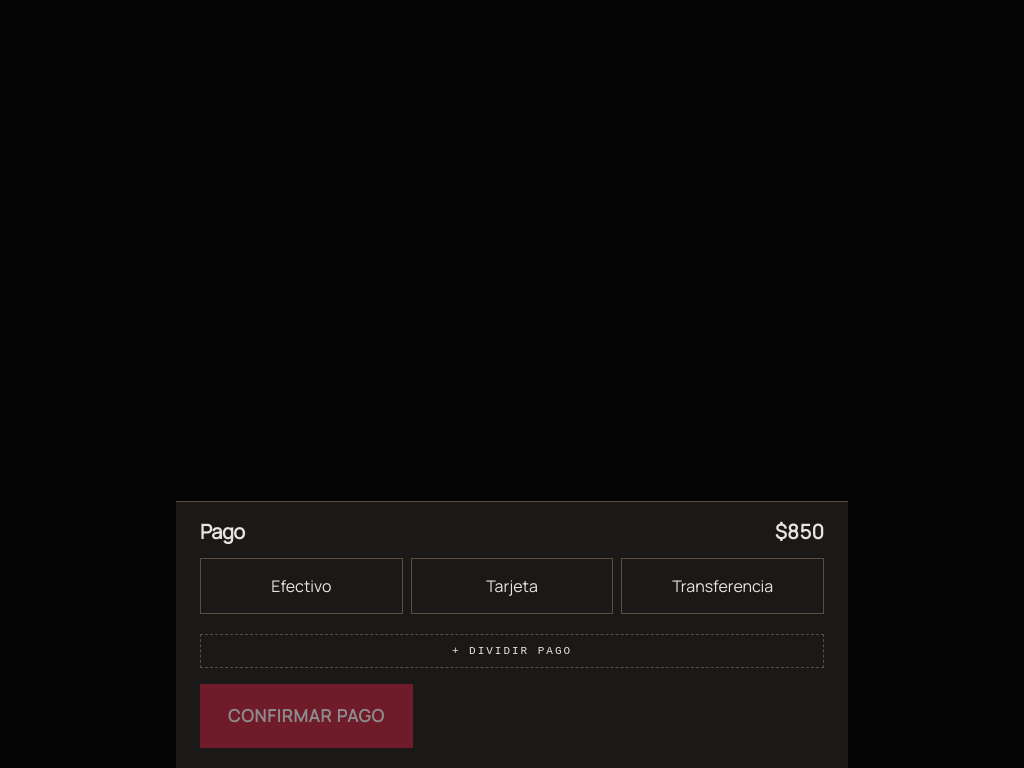
Test: PaymentSheet — split mode › reveals split UI when "Dividir pago" button is tapped
This screenshot has width=1024, height=768.
Click the button "+ Dividir pago".
click(512, 651)  # box [200, 634, 824, 668]
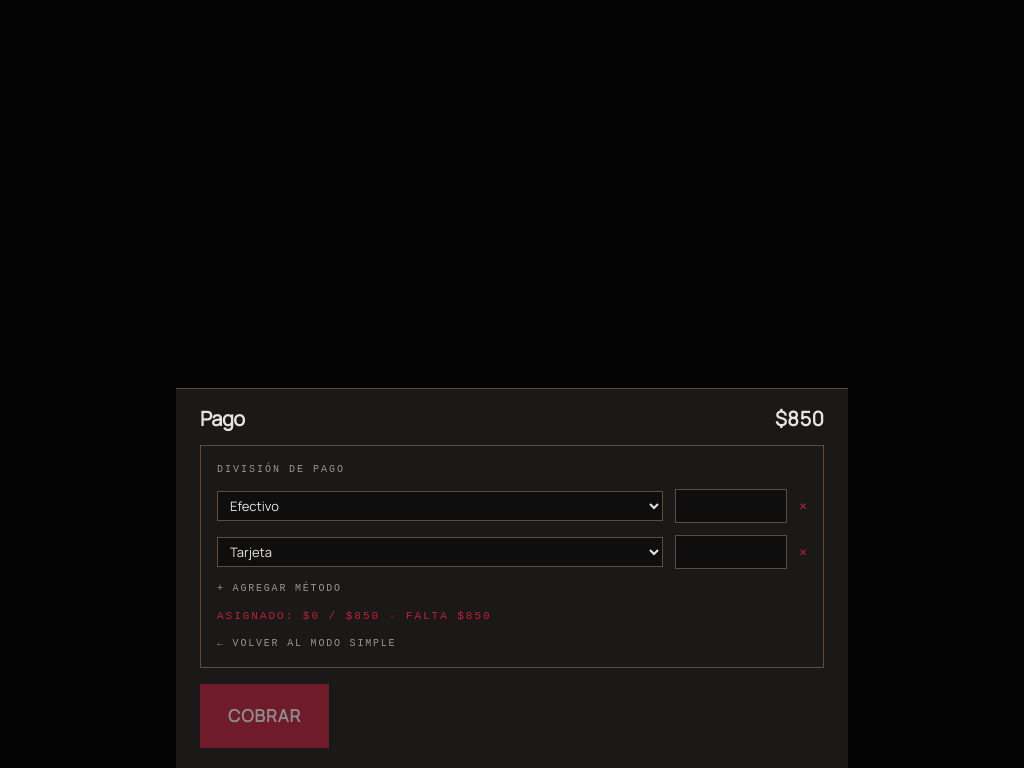
Check: the text "División de pago" is shown, box [217, 464, 345, 474]
